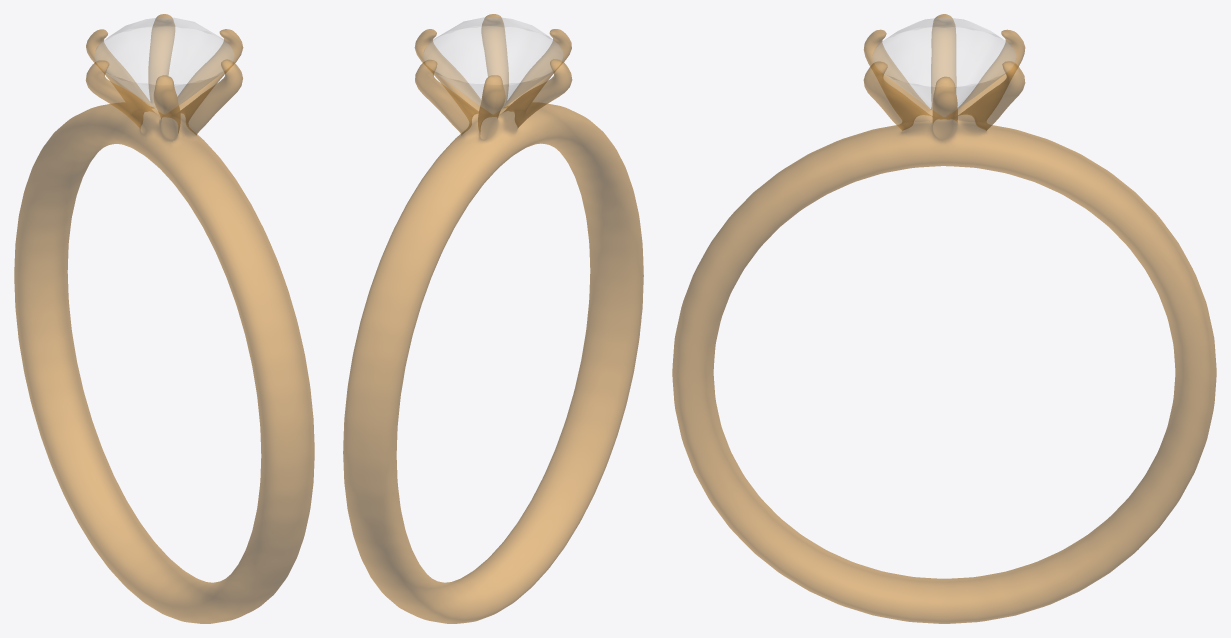
The picture shows the model from 3 angles, left to right: view 1: azimuth 30°, elevation 25°; view 2: azimuth 150°, elevation 25°; view 3: azimuth 270°, elevation 25°; orthographic projection. The views are drawn at different scales.
Parts seen in each view (by area): view 1: VR001; view 2: VR001; view 3: VR001.
Boxes of the visible parts, <box> form: VR001: <box>14,14,314,623</box>; VR001: <box>343,14,643,623</box>; VR001: <box>672,14,1216,623</box>.
Bounding box in the file's own units: 0.7761 × 2.75 × 2.32.
